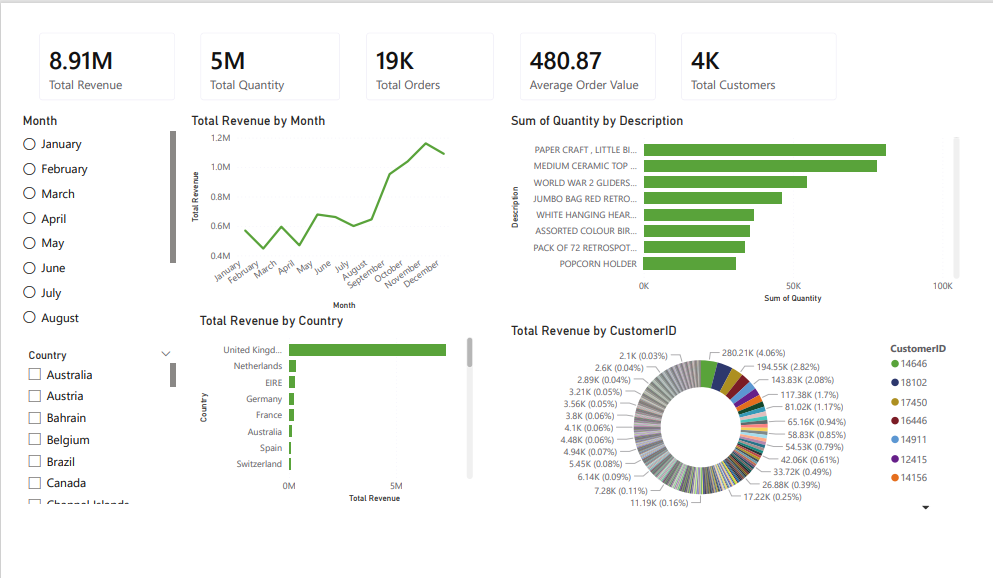

What the dashboard file says about the page in this screenshot:
{"tool":"powerbi","page":{"name":"Page 1","canvas":[1280,720],"ordinal":0},"visuals":[{"type":"cardVisual","fields":{"Data":["cleaned_online_retail.Total Revenue"]},"box":[10.2,0,215.1,124.4],"z":0},{"type":"cardVisual","fields":{"Data":["cleaned_online_retail.Total Quantity"]},"box":[225.4,0,221,124.4],"z":1},{"type":"cardVisual","fields":{"Data":["cleaned_online_retail.Total Orders"]},"box":[446.3,0,204.9,124.4],"z":2},{"type":"cardVisual","fields":{"Data":["cleaned_online_retail.Average Order Value"]},"box":[651.2,0,215.1,124.4],"z":3},{"type":"lineChart","fields":{"Y":["cleaned_online_retail.Total Revenue"],"Category":["cleaned_online_retail.InvoiceDate.Variation.Date Hierarchy.Month"]},"box":[225.4,124.4,355.6,266.3],"z":4},{"type":"clusteredBarChart","fields":{"Category":["cleaned_online_retail.Country"],"Y":["cleaned_online_retail.Total Revenue"]},"box":[235.6,390.7,374.6,259],"z":5},{"type":"clusteredBarChart","fields":{"Y":["Sum(cleaned_online_retail.Quantity)"],"Category":["cleaned_online_retail.Description"]},"box":[651.2,124.4,607.3,259],"z":6},{"type":"donutChart","fields":{"Y":["cleaned_online_retail.Total Revenue"],"Category":["cleaned_online_retail.CustomerID"]},"box":[651.2,403.9,607.3,259],"z":7},{"type":"listSlicer","fields":{"Values":["cleaned_online_retail.InvoiceDate.Variation.Date Hierarchy.Month"]},"box":[0,124.4,215.1,295.6],"z":8},{"type":"slicer","fields":{"Values":["cleaned_online_retail.Country"]},"box":[0,434,215,216],"z":9},{"type":"cardVisual","fields":{"Data":["cleaned_online_retail.Total Customers"]},"box":[866.3,0,241.5,124.4],"z":10}]}

Visuals, with their boxes on the page's 1280x720 design canvas (x1, y1, x2, y2). These are canvas units, not pixel positions in the 993x578 screenshot, which may show the page scaled, cropped or inside an application window:
cardVisual - cleaned_online_retail.Total Revenue: detection(10, 0, 225, 124)
cardVisual - cleaned_online_retail.Total Quantity: detection(225, 0, 446, 124)
cardVisual - cleaned_online_retail.Total Orders: detection(446, 0, 651, 124)
cardVisual - cleaned_online_retail.Average Order Value: detection(651, 0, 866, 124)
lineChart - cleaned_online_retail.Total Revenue x cleaned_online_retail.InvoiceDate.Variation.Date Hierarchy.Month: detection(225, 124, 581, 391)
clusteredBarChart - cleaned_online_retail.Country x cleaned_online_retail.Total Revenue: detection(236, 391, 610, 650)
clusteredBarChart - Sum(cleaned_online_retail.Quantity) x cleaned_online_retail.Description: detection(651, 124, 1258, 383)
donutChart - cleaned_online_retail.Total Revenue x cleaned_online_retail.CustomerID: detection(651, 404, 1258, 663)
listSlicer - cleaned_online_retail.InvoiceDate.Variation.Date Hierarchy.Month: detection(0, 124, 215, 420)
slicer - cleaned_online_retail.Country: detection(0, 434, 215, 650)
cardVisual - cleaned_online_retail.Total Customers: detection(866, 0, 1108, 124)
